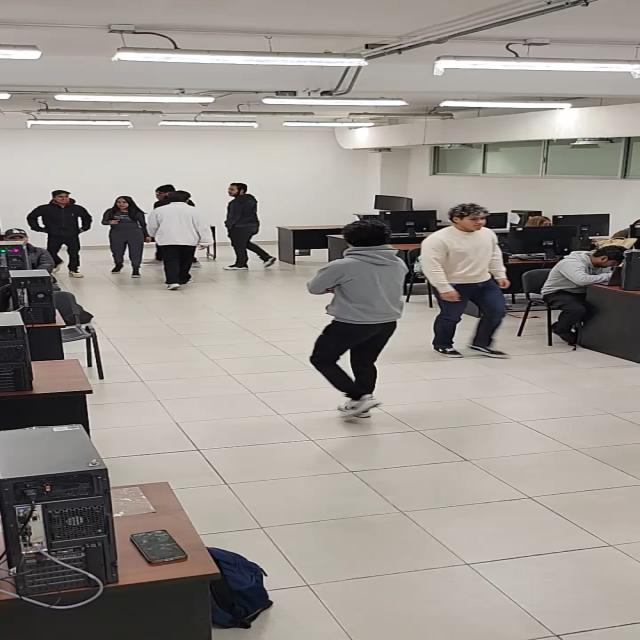Persona: (304, 214, 409, 426), (418, 200, 521, 367), (28, 185, 94, 284), (150, 187, 210, 289), (222, 180, 282, 275), (103, 191, 146, 280)
